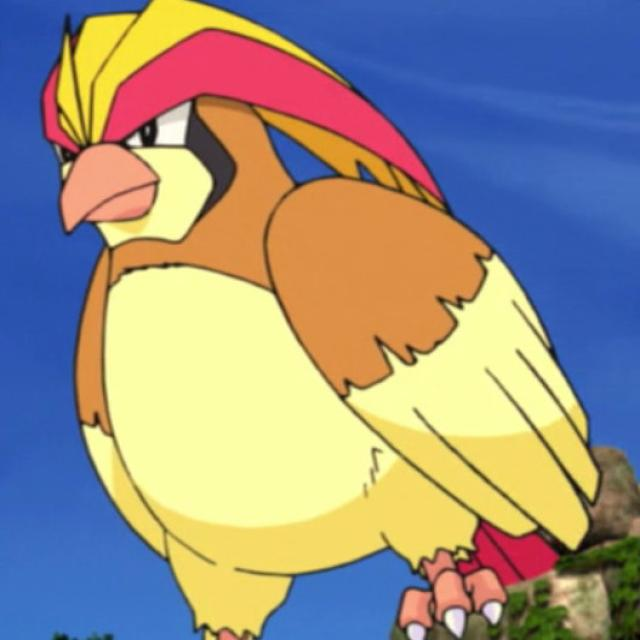Pidgeot: (38, 4, 569, 640)
